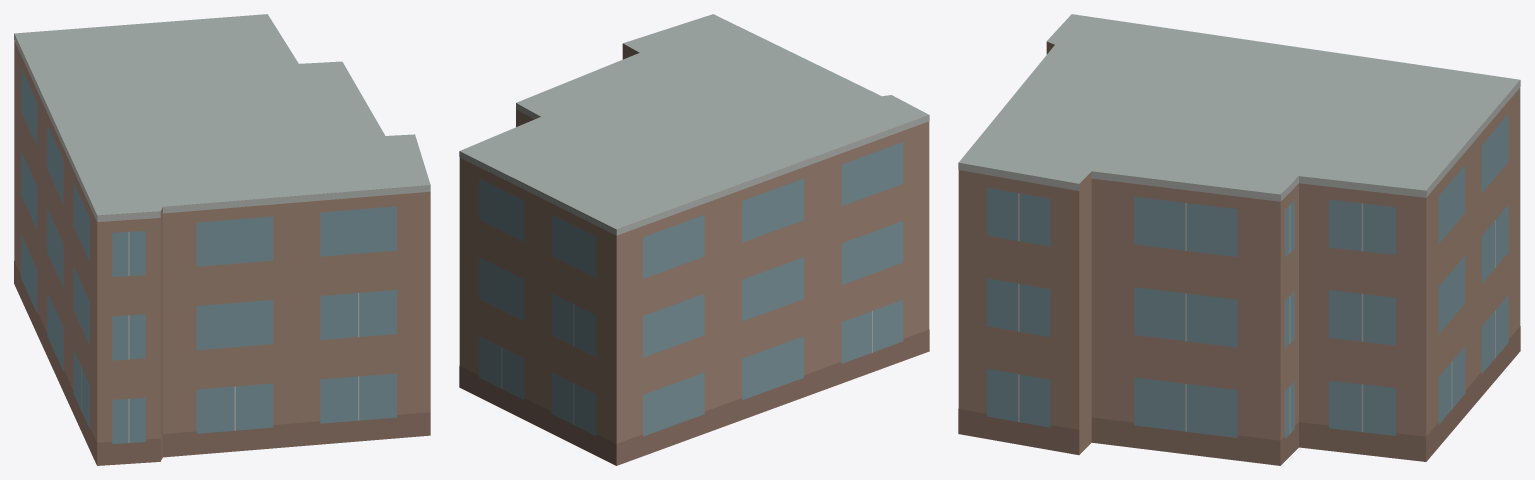
The model's file is survey-upis-32958367.glb.
The picture shows the model from 3 angles, left to right: view 1: azimuth 30°, elevation 25°; view 2: azimuth 150°, elevation 25°; view 3: azimuth 270°, elevation 25°; orthographic projection. The views are drawn at different scales.
Visible parts, largest first — view 1: survey-upis-32958367.tmp; view 2: survey-upis-32958367.tmp; view 3: survey-upis-32958367.tmp.
Boxes of the visible parts, x1=… form: survey-upis-32958367.tmp: x1=14, y1=14, x2=430, y2=465; survey-upis-32958367.tmp: x1=459, y1=14, x2=929, y2=465; survey-upis-32958367.tmp: x1=958, y1=14, x2=1520, y2=465.
Bounding box in the file's own units: 13.07 × 9.15 × 17.19.
